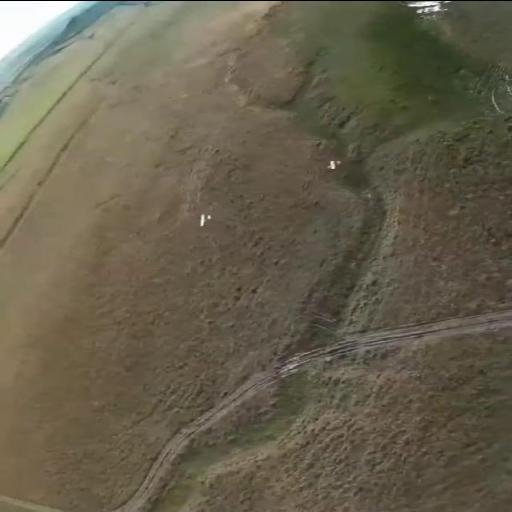uav: (198, 212, 212, 226), (326, 158, 340, 168)
